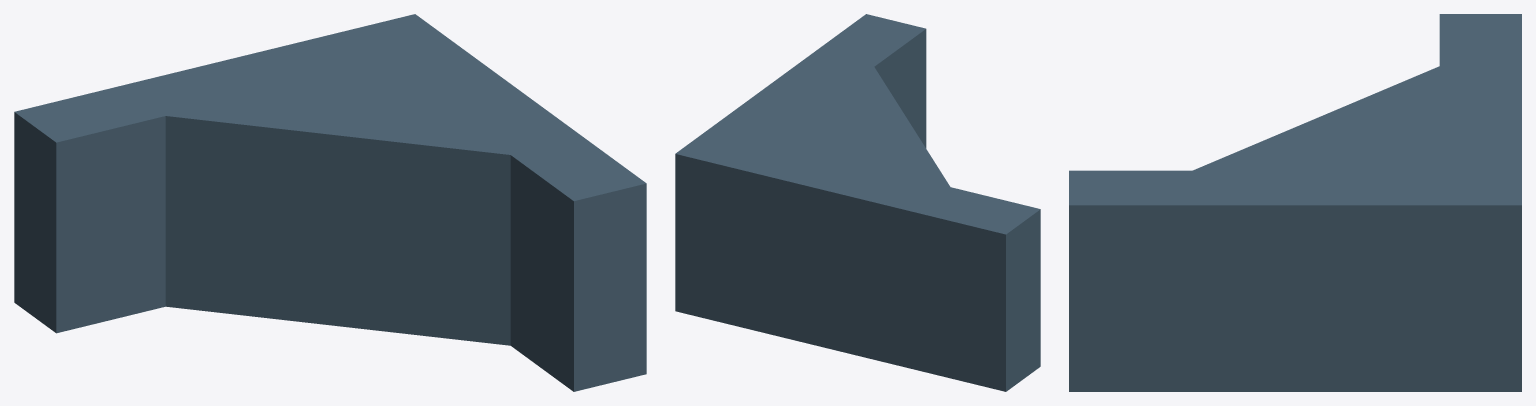
File: W1_WallCorner_Angular1B_Top.fbx
3 views of the same model, side by side, from view 1: azimuth 30°, elevation 25°; view 2: azimuth 150°, elevation 25°; view 3: azimuth 270°, elevation 25° (orthographic). The views are drawn at different scales.
Visible parts, largest first — view 1: W1_WallCorner_Angular1B_Top.001; view 2: W1_WallCorner_Angular1B_Top.001; view 3: W1_WallCorner_Angular1B_Top.001.
Boxes of the visible parts, x1,y1,x2,y2 form: W1_WallCorner_Angular1B_Top.001: [14, 14, 646, 391]; W1_WallCorner_Angular1B_Top.001: [675, 14, 1040, 391]; W1_WallCorner_Angular1B_Top.001: [1069, 14, 1521, 391].
Bounding box in the file's own units: 1.1 × 0.5 × 1.1.
